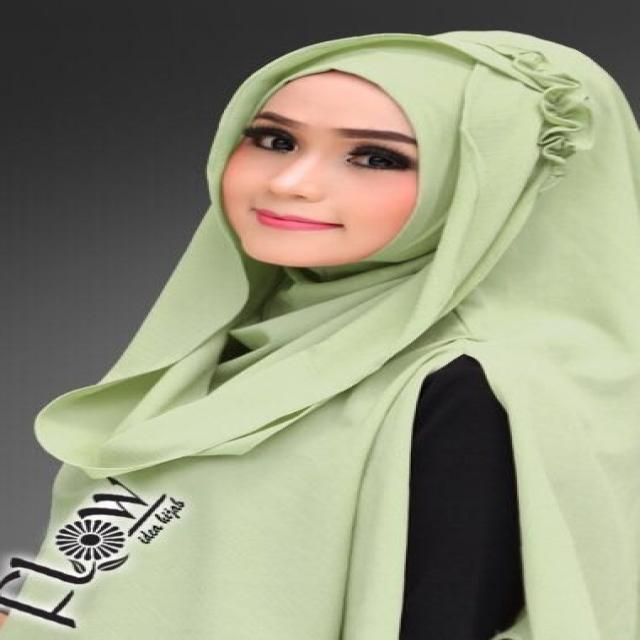head: (203, 23, 640, 273)
